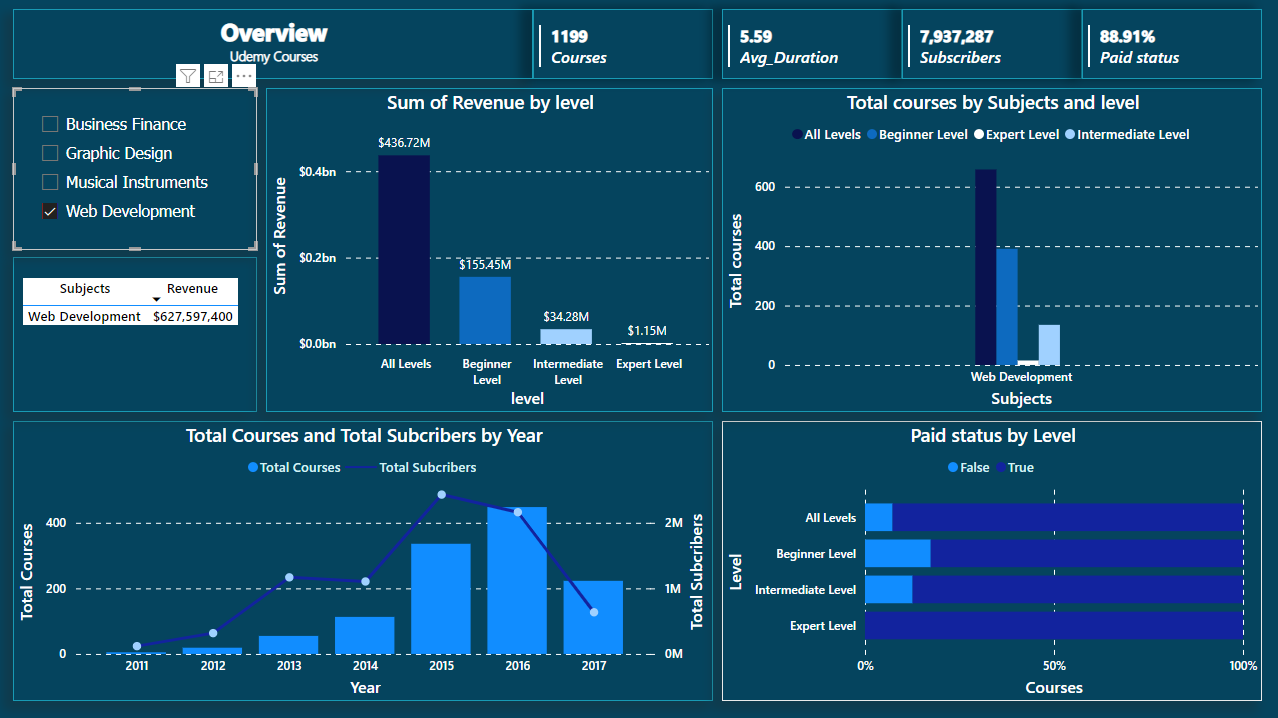

This screenshot's page, from the dashboard's own definition file:
{"tool":"powerbi","page":{"name":"Overviews","canvas":[1280,720],"ordinal":0},"visuals":[{"type":"lineStackedColumnComboChart","fields":{"Category":["2  Udemy_courses.published_timestamp.Variation.Date Hierarchy.Year","2  Udemy_courses.published_timestamp.Variation.Date Hierarchy.Month"],"Y2":["Sum(2  Udemy_courses.num_subscribers)"],"Y":["CountNonNull(Udemy_courses.course_title)"]},"box":[15,422,700,280],"z":0},{"type":"hundredPercentStackedBarChart","title":"Paid status each Level","fields":{"Category":["Udemy_courses.level"],"Series":["Udemy_courses.is_paid"],"Y":["CountNonNull(Udemy_courses.course_id)"]},"box":[724,422,540,280],"z":1000},{"type":"multiRowCard","title":"Courses","fields":{"Values":["CountNonNull(2  Udemy_courses.course_title)"]},"box":[535,10,180,70],"z":2000},{"type":"multiRowCard","fields":{"Values":["2  Udemy_courses.Average of content_duration average per course_title"]},"box":[723.8,10,180,70],"z":3000},{"type":"multiRowCard","fields":{"Values":["Sum(2  Udemy_courses.num_subscribers)"]},"box":[903.8,10,180,70],"z":4000},{"type":"slicer","title":"Subjects","fields":{"Values":["2  Udemy_courses.subject"]},"box":[15,89,244,162],"z":5000},{"type":"textbox","box":[15,10,520,70],"z":6000},{"type":"tableEx","fields":{"Values":["Udemy_courses.subject","Sum(Udemy_courses.Revenue)"]},"box":[15,257.9,244.3,155],"z":7000},{"type":"clusteredColumnChart","fields":{"Category":["Udemy_courses.subject"],"Y":["CountNonNull(Udemy_courses.course_title)"],"Series":["Udemy_courses.level"]},"box":[724,89,540,324],"z":8000},{"type":"multiRowCard","fields":{"Values":["Udemy_courses.Paid status"]},"box":[1083.8,10,180,70],"z":9000},{"type":"columnChart","fields":{"Y":["Sum(Udemy_courses.Revenue)"],"Category":["Udemy_courses.level"]},"box":[268,89,447,324],"z":10000}]}

Visuals, with their boxes in screenshot pixels (x1, y1, x2, y2), scaled from the page's 1280x720 canvas onto the 1278x718 screenshot:
lineStackedColumnComboChart - 2  Udemy_courses.published_timestamp.Variation.Date Hierarchy.Year x 2  Udemy_courses.published_timestamp.Variation.Date Hierarchy.Month: Rect(15, 421, 714, 700)
"Paid status each Level" hundredPercentStackedBarChart: Rect(723, 421, 1262, 700)
"Courses" multiRowCard: Rect(534, 10, 714, 80)
multiRowCard - 2  Udemy_courses.Average of content_duration average per course_title: Rect(723, 10, 902, 80)
multiRowCard - Sum(2  Udemy_courses.num_subscribers): Rect(902, 10, 1082, 80)
"Subjects" slicer: Rect(15, 89, 259, 250)
textbox: Rect(15, 10, 534, 80)
tableEx - Udemy_courses.subject x Sum(Udemy_courses.Revenue): Rect(15, 257, 259, 412)
clusteredColumnChart - Udemy_courses.subject x CountNonNull(Udemy_courses.course_title): Rect(723, 89, 1262, 412)
multiRowCard - Udemy_courses.Paid status: Rect(1082, 10, 1262, 80)
columnChart - Sum(Udemy_courses.Revenue) x Udemy_courses.level: Rect(268, 89, 714, 412)
